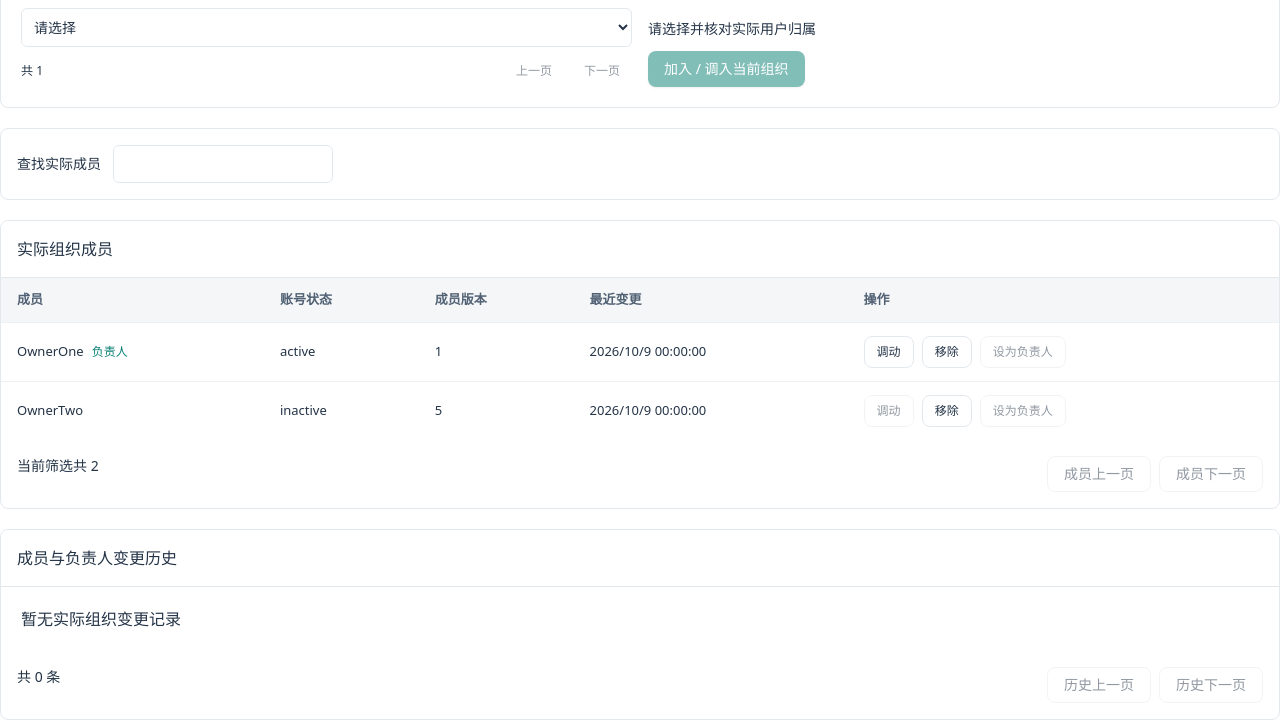
Scenario: organization member workflows › allows reasoned removal of an inactive member while disabling transfer and manager promotion
The image size is (1280, 720).
(page scrolled)
Expected: the cell "OwnerTwo" is shown, [1,381,264,440]
Expected: the button "调动" in the row of "OwnerTwo" is disabled, [864,394,914,426]
Click the button "移除" in the row of "OwnerTwo" at (947, 410), box [922,394,972,426]
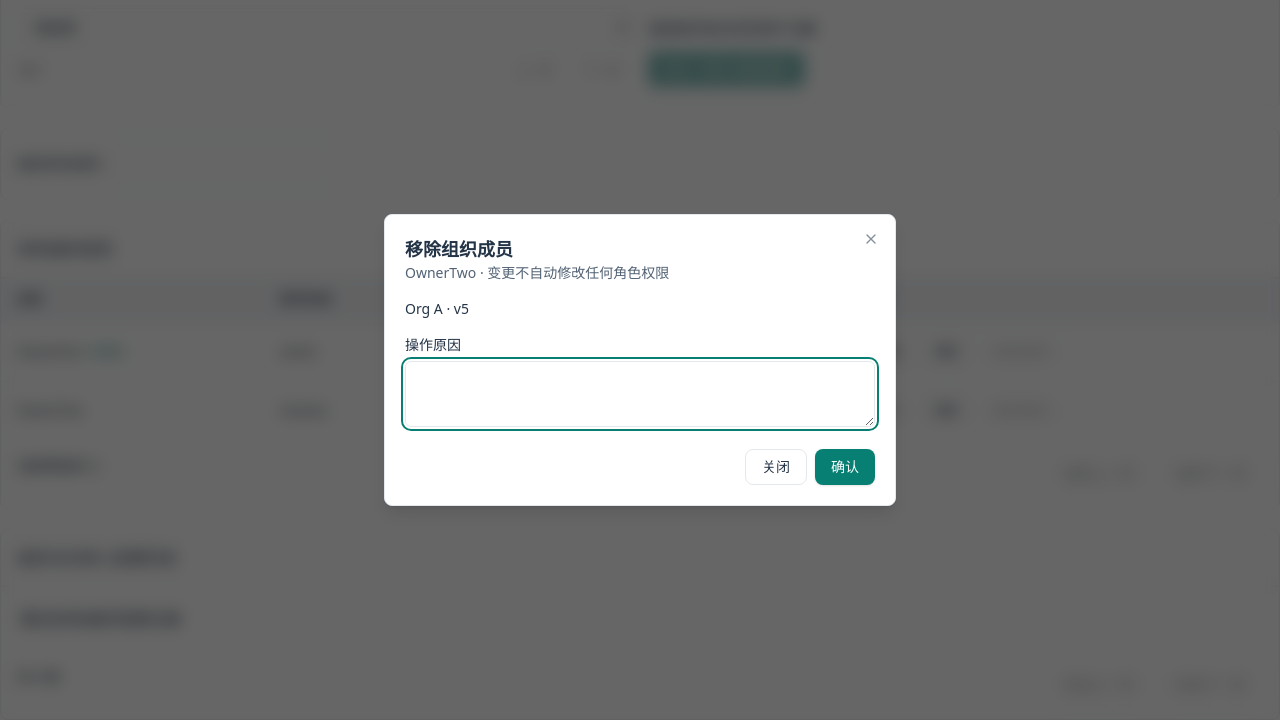
Type "岗位调动" into the text box labelled "操作原因" at (640, 394), box [405,361,875,427]
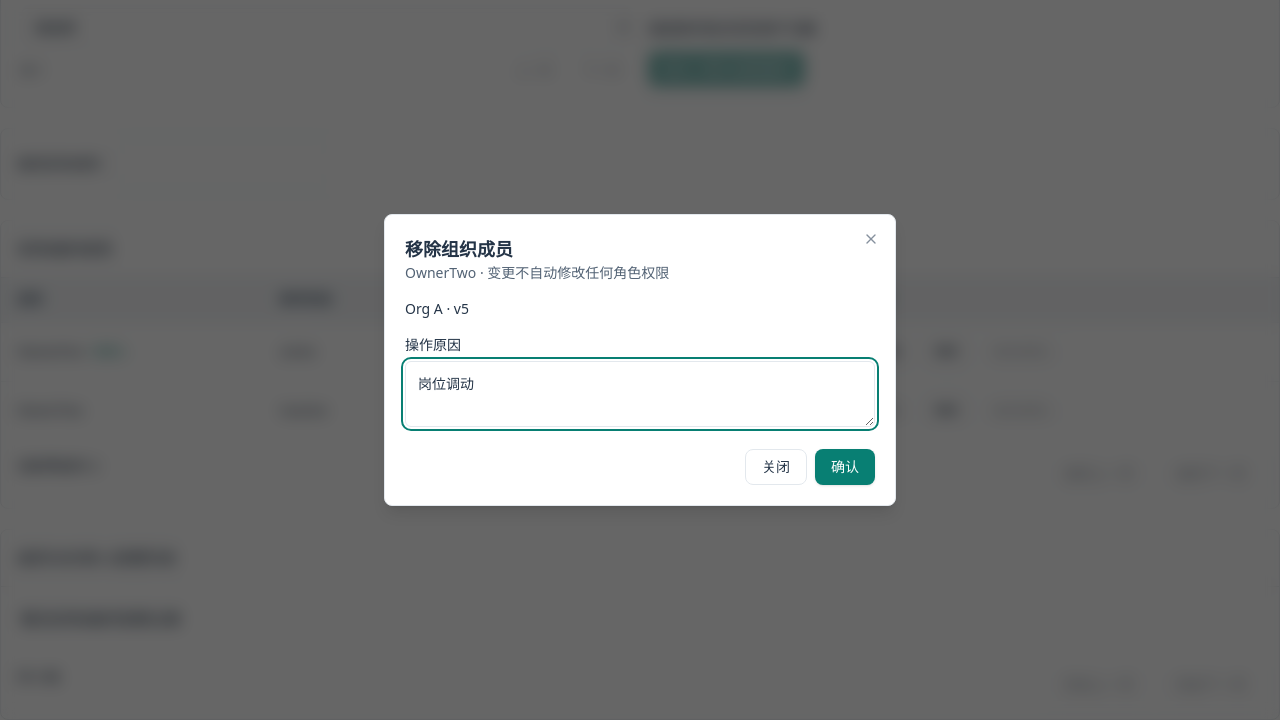
Click the button "确认" at (845, 467), box [815,449,875,485]
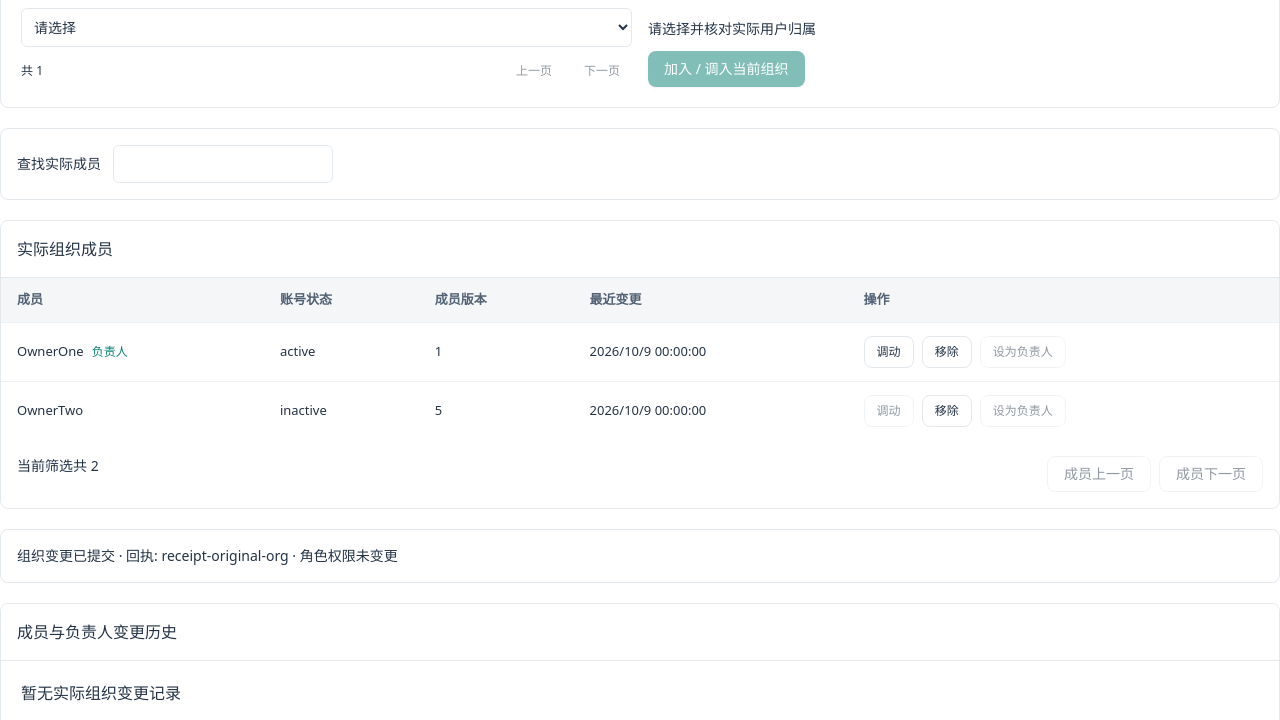
Expected: the text "组织变更已提交 · 回执: receipt-original-org · 角色权限未变更" is shown, [0,528,1279,582]
